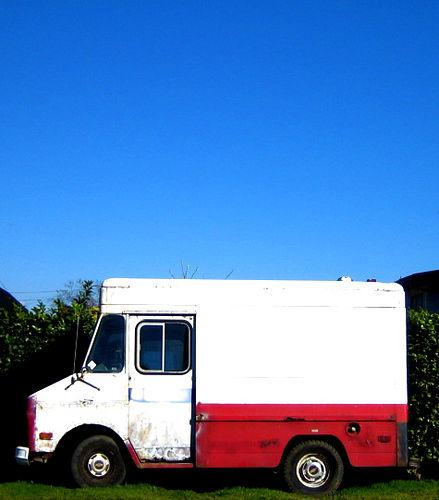truck: (15, 275, 420, 500)
